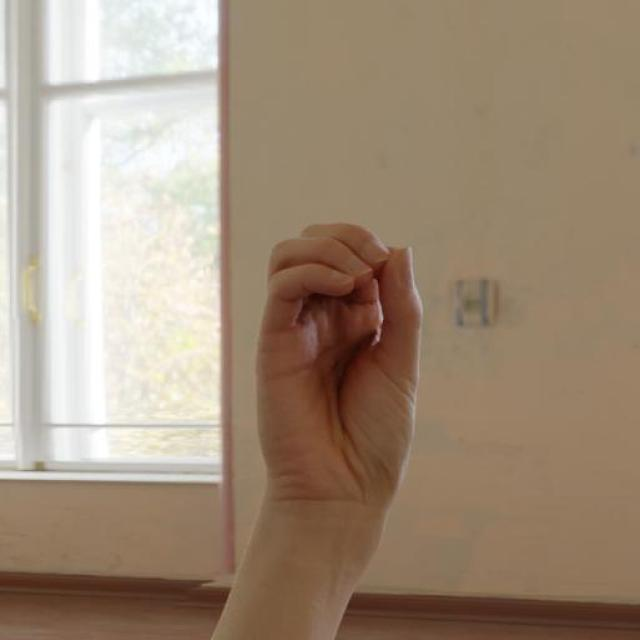O: (199, 193, 457, 612)
